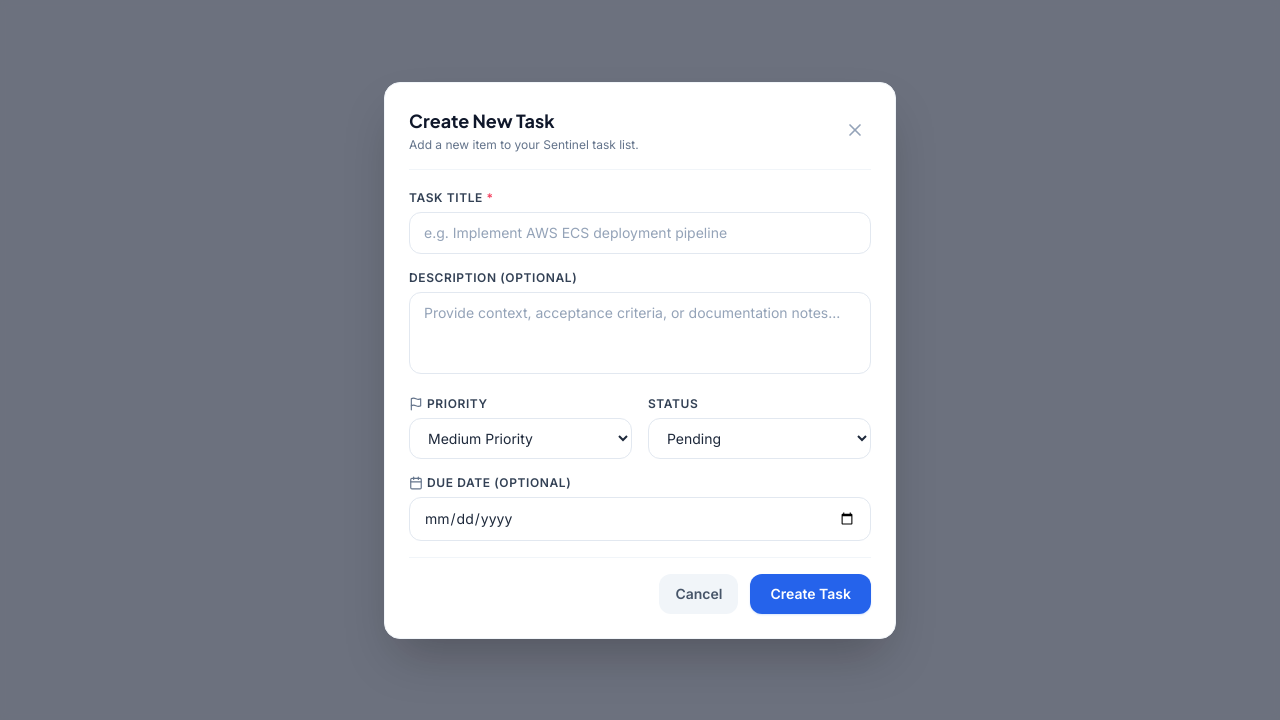
TaskModal Component › shows validation error when title is empty
Click the button "Create Task": {"x": 811, "y": 594} top-left (750, 574), bottom-right (871, 614)
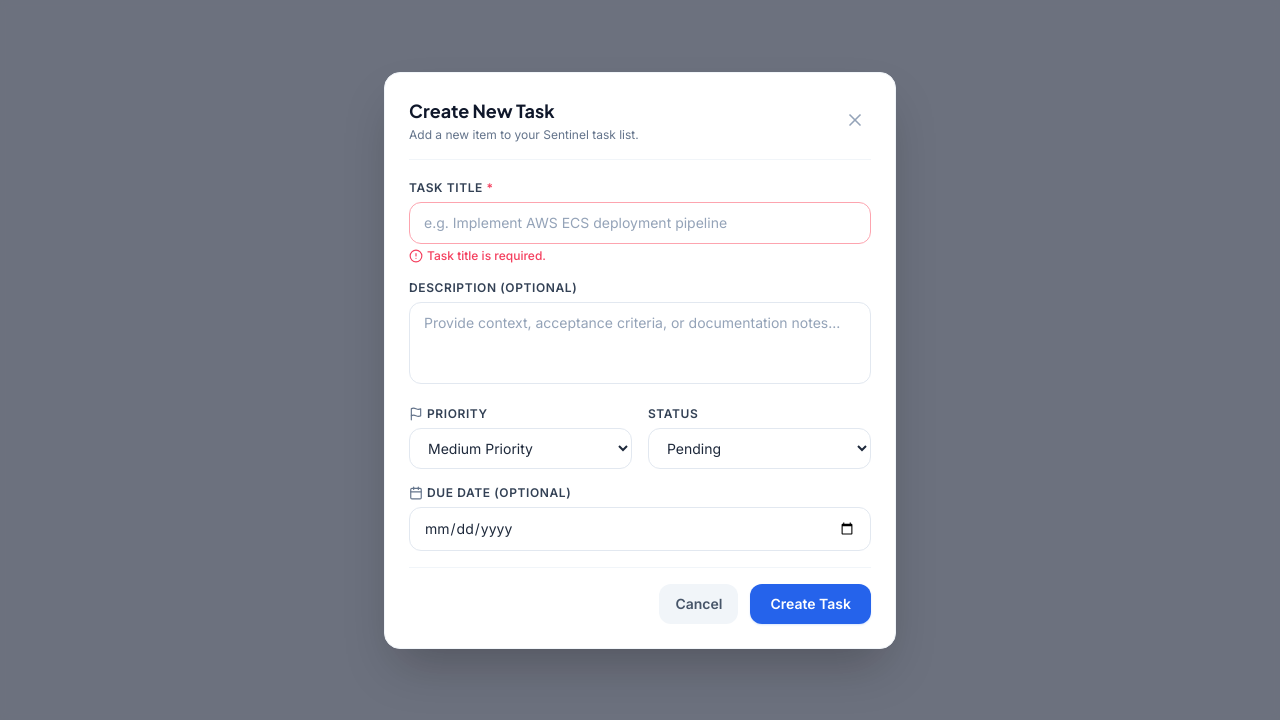
expect the text "Task title is required." is shown: met, box top-left (409, 248), bottom-right (546, 262)
